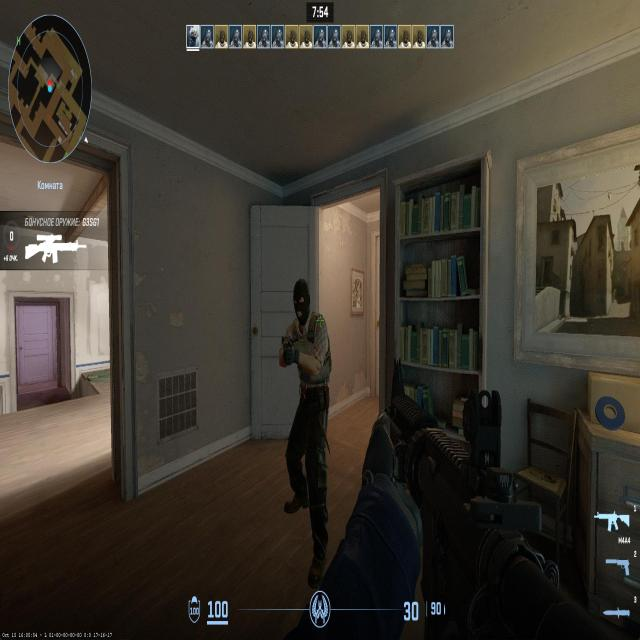T: (286, 294, 328, 542)
T_heat: (296, 298, 311, 323)
